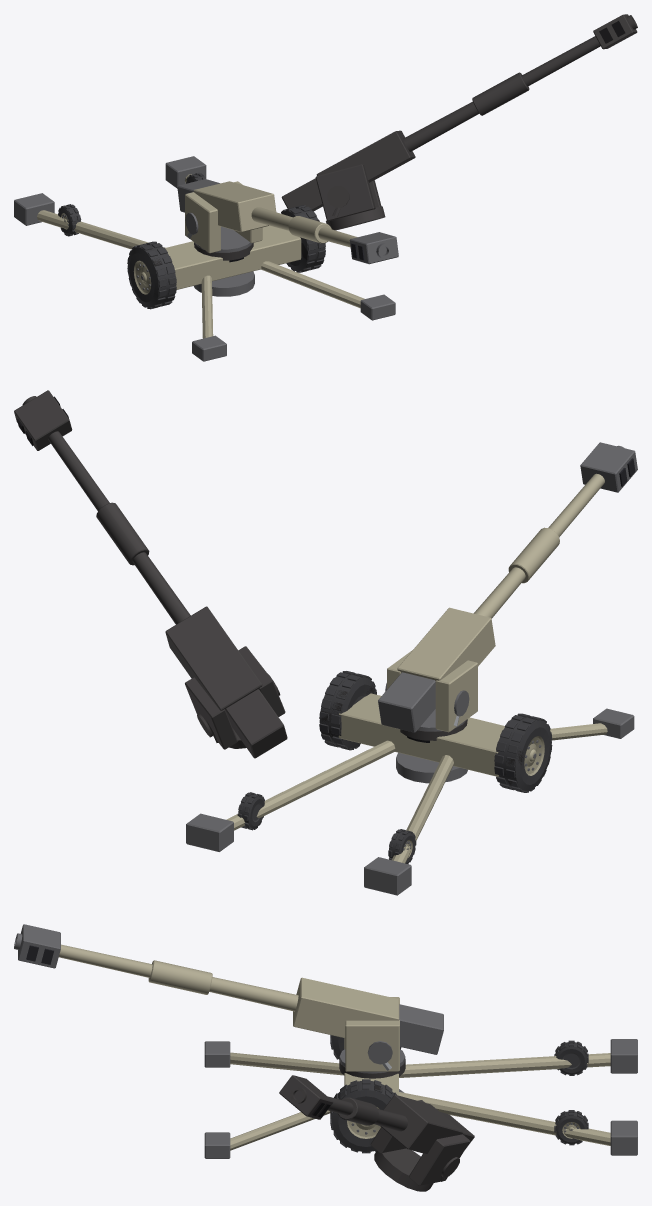
Rendered from towedHowitzer__m777.glb.
The picture shows the model from 3 angles, top to bottom: view 1: azimuth 30°, elevation 25°; view 2: azimuth 150°, elevation 25°; view 3: azimuth 270°, elevation 25°; orthographic projection. The views are drawn at different scales.
Visible parts, largest first — view 1: Wreck, Hull_Mesh, Gun_Mesh, Wheel_L0_Mesh, Turret_Mesh, Wheel_R0_Mesh, Wheel_L1_Mesh; view 2: Wreck, Hull_Mesh, Gun_Mesh, Wheel_L0_Mesh, Turret_Mesh, Wheel_R0_Mesh, Wheel_R1_Mesh; view 3: Gun_Mesh, Hull_Mesh, Wreck, Turret_Mesh, Wheel_R0_Mesh, Wheel_L1_Mesh, Wheel_R1_Mesh.
Part boxes in pixels (x1,y1,x2,y2): Wreck: [153, 14, 637, 308]; Hull_Mesh: [14, 156, 395, 361]; Gun_Mesh: [177, 179, 398, 264]; Wheel_L0_Mesh: [127, 241, 176, 309]; Turret_Mesh: [185, 181, 262, 253]; Wheel_R0_Mesh: [281, 205, 325, 272]; Wheel_L1_Mesh: [58, 204, 81, 236]; Wreck: [14, 390, 552, 784]; Hull_Mesh: [186, 693, 634, 895]; Gun_Mesh: [378, 442, 637, 732]; Wheel_L0_Mesh: [494, 713, 552, 792]; Turret_Mesh: [385, 650, 477, 732]; Wheel_R0_Mesh: [319, 671, 376, 750]; Wheel_R1_Mesh: [237, 792, 264, 830]; Gun_Mesh: [14, 924, 443, 1054]; Hull_Mesh: [204, 1038, 637, 1158]; Wreck: [279, 1059, 474, 1191]; Turret_Mesh: [339, 997, 405, 1073]; Wheel_R0_Mesh: [330, 1079, 396, 1153]; Wheel_L1_Mesh: [554, 1040, 588, 1075]; Wheel_R1_Mesh: [554, 1110, 588, 1145].
Size of what is drawn, in the model's own units: 7.86 by 3.24 by 7.99.
